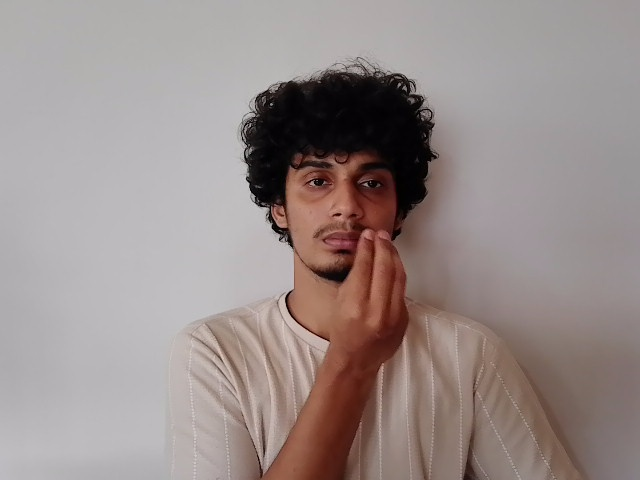eat: (269, 150, 415, 366)
